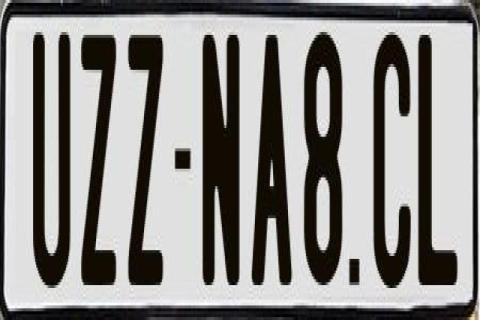0: (303, 29, 341, 297)
A: (250, 35, 296, 299)
C: (372, 26, 412, 282)
L: (416, 26, 456, 288)
N: (200, 32, 236, 296)
U: (31, 24, 75, 282)
Z: (128, 27, 168, 280), (78, 32, 114, 294)
